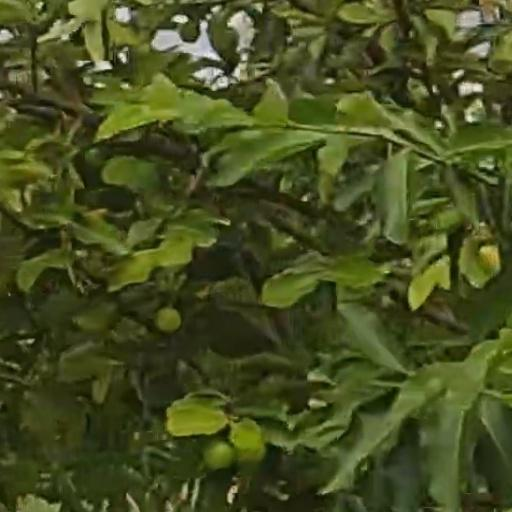acerola: (203, 439, 233, 468), (231, 419, 261, 447), (155, 310, 181, 333)
